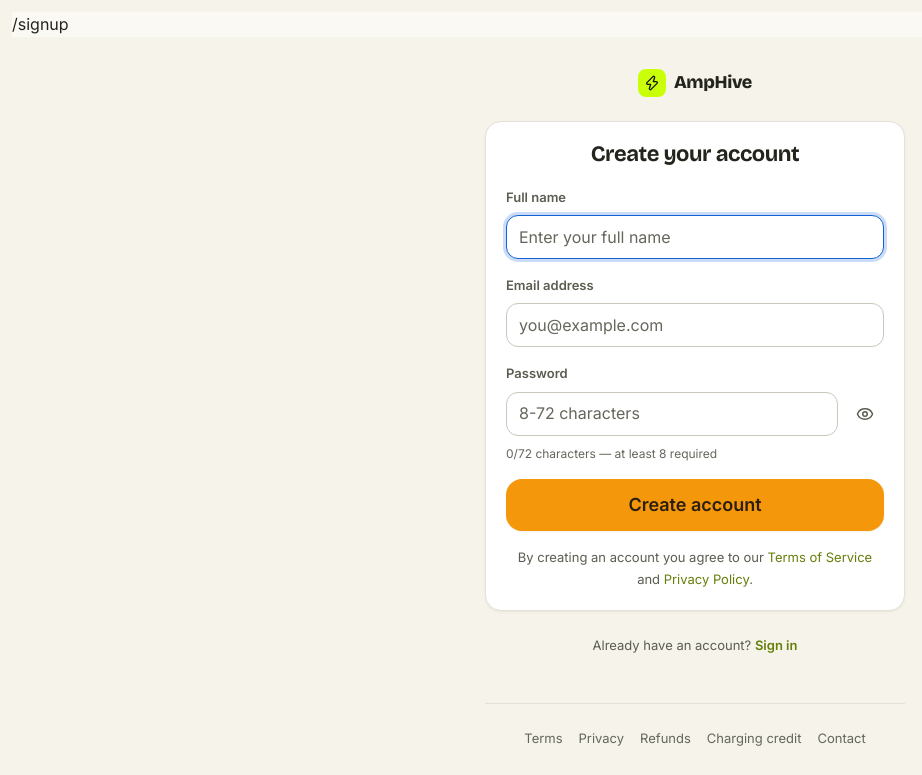
Test case: Signup › surfaces an API failure (e.g. email already registered) inline
Type "New Driver" into the field labelled "Full name" at point(695, 237), box x1=506 y1=215 x2=884 y2=259
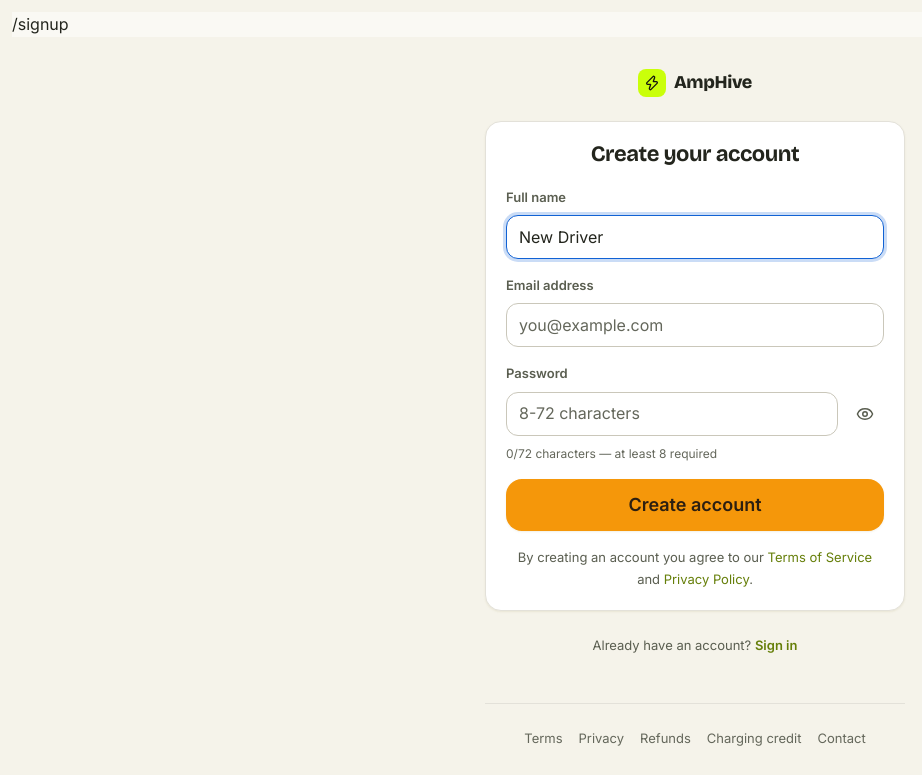
Type "new@amphive.test" into the field labelled "Email address" at point(695, 325), box x1=506 y1=303 x2=884 y2=347
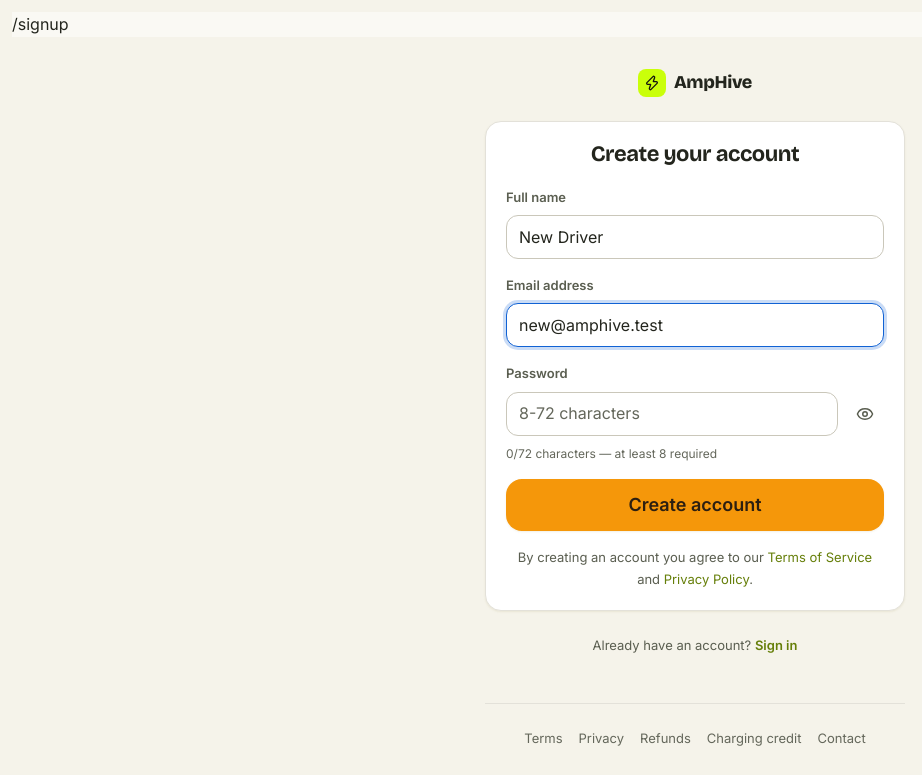
Type "password123" into the password field labelled "Password" at point(672, 414), box x1=506 y1=392 x2=838 y2=436
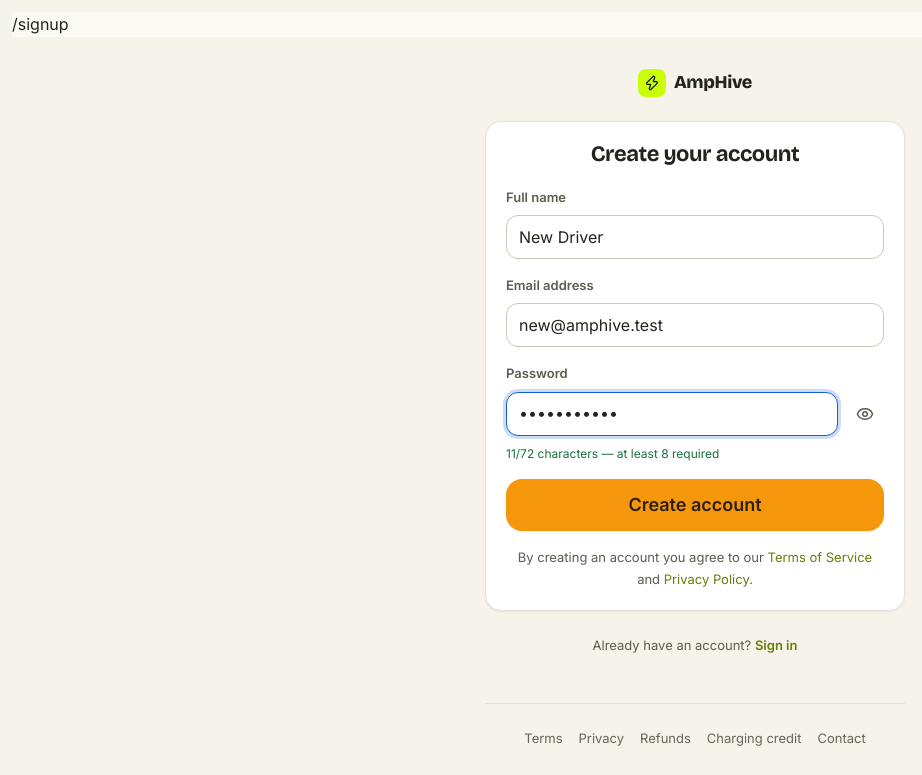
Click the button "Create account" at point(695, 505), box x1=506 y1=479 x2=884 y2=531
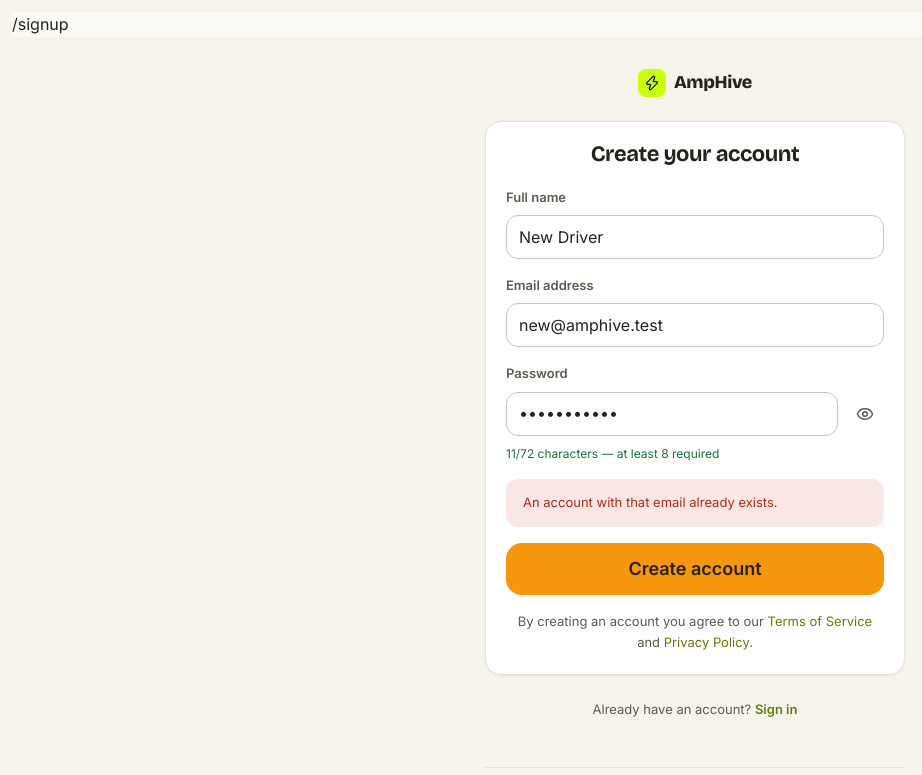
Now the text "An account with that email already exists." is shown, box x1=523 y1=492 x2=778 y2=514
